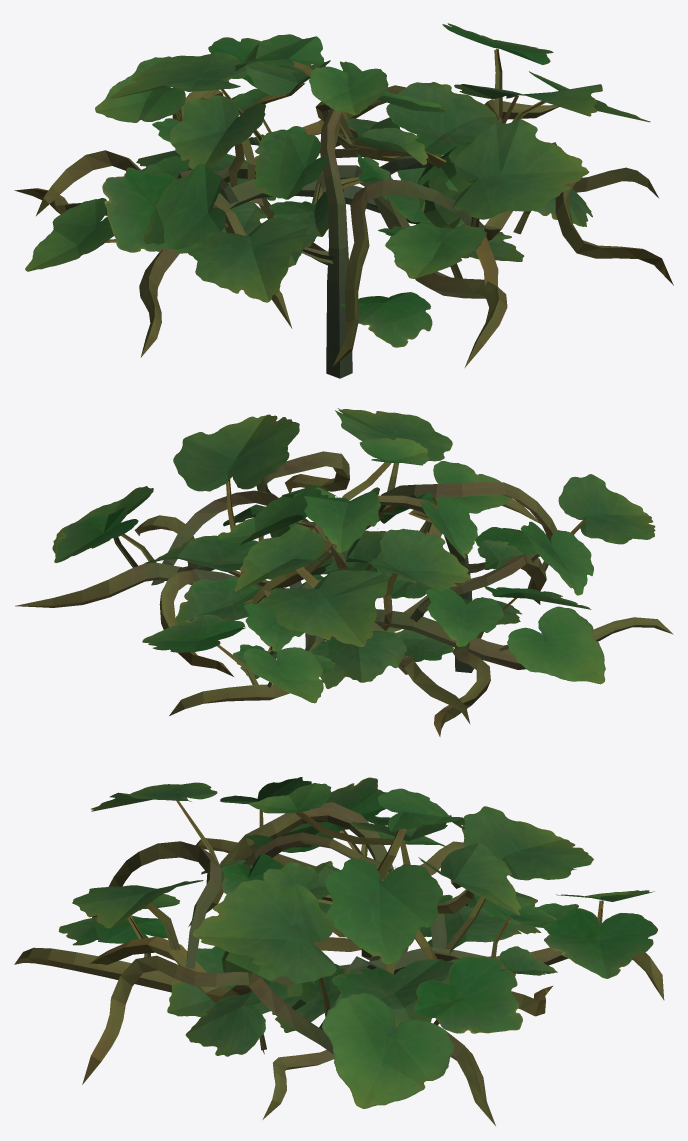
Rendered from P_Herb_00348.obj.
3 renders of one model, top to bottom at view 1: azimuth 30°, elevation 25°; view 2: azimuth 150°, elevation 25°; view 3: azimuth 270°, elevation 25°, orthographic. The views are drawn at different scales.
Bounding box in the file's own units: 1.49 × 0.5962 × 1.36.
1 material, 1 textured.
